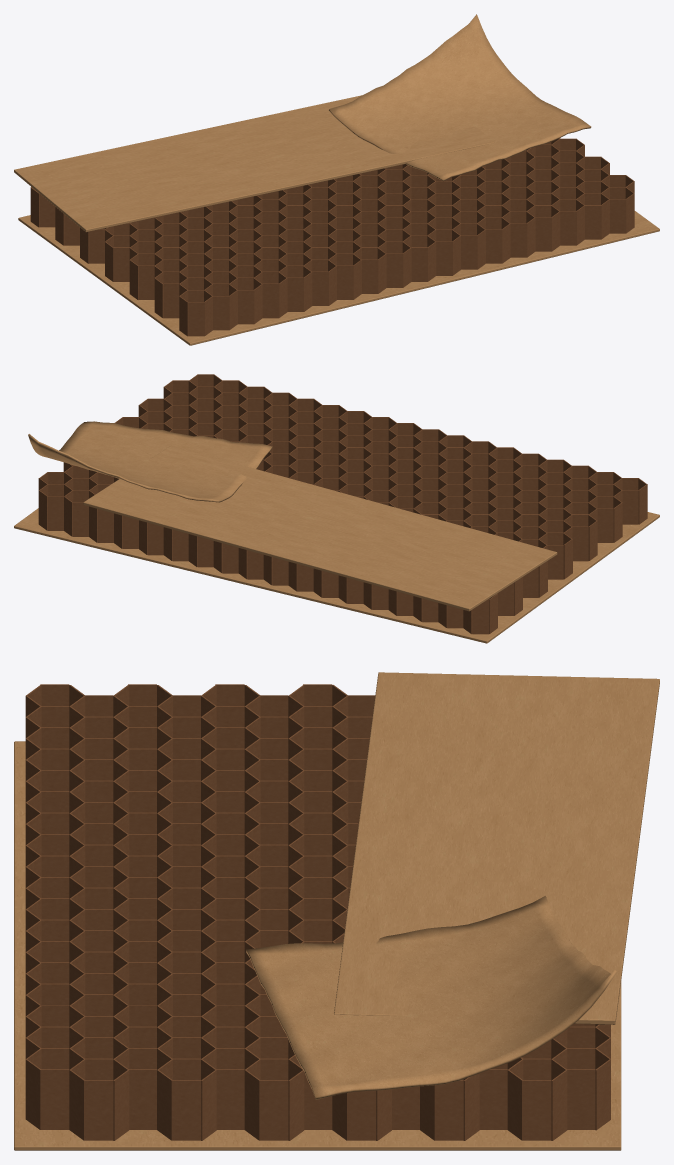
File: honeycomb.glb
3 renders of one model, top to bottom at view 1: azimuth 30°, elevation 25°; view 2: azimuth 150°, elevation 25°; view 3: azimuth 270°, elevation 25°, orthographic. The views are drawn at different scales.
Parts seen in each view (by area): view 1: Open hexagonal paper core, Partially removed upper facing, Peel-back offcut showing adhesive side, Lower kraft facing; view 2: Open hexagonal paper core, Partially removed upper facing, Peel-back offcut showing adhesive side, Lower kraft facing; view 3: Open hexagonal paper core, Partially removed upper facing, Peel-back offcut showing adhesive side, Lower kraft facing.
Boxes of the visible parts, x1,y1,x2,y2 form: Open hexagonal paper core: (30, 138, 634, 336); Partially removed upper facing: (14, 95, 494, 232); Peel-back offcut showing adhesive side: (328, 14, 591, 181); Lower kraft facing: (18, 211, 659, 345); Open hexagonal paper core: (38, 374, 647, 634); Partially removed upper facing: (83, 445, 557, 611); Peel-back offcut showing adhesive side: (28, 421, 272, 502); Lower kraft facing: (14, 508, 659, 643); Open hexagonal paper core: (25, 684, 610, 1140); Partially removed upper facing: (334, 672, 659, 1024); Peel-back offcut showing adhesive side: (246, 896, 617, 1099); Lower kraft facing: (14, 741, 621, 1150).
Bounding box in the file's own units: 0.2997 × 0.0564 × 0.1946.
Materials: 2 (2 with a texture image).
